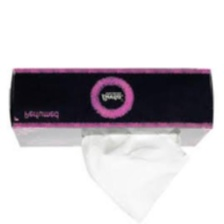book: (6, 64, 216, 150)
tissue: (78, 130, 193, 224)
